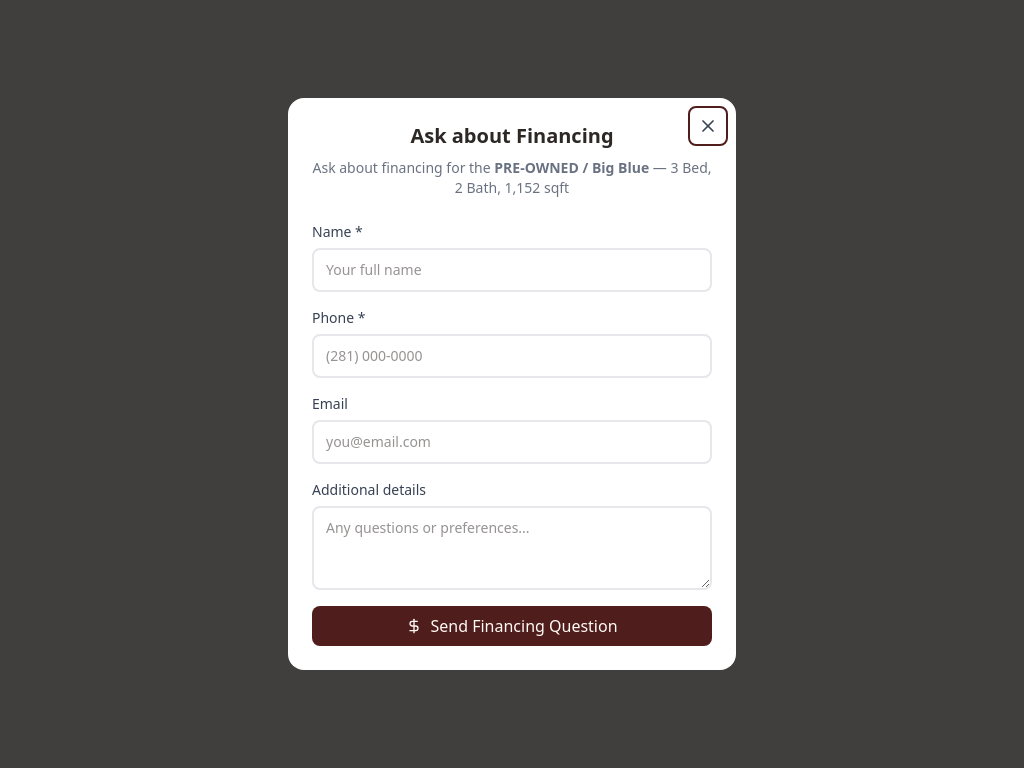
Test: public pages omit unverified claims › keeps financing inquiry wording throughout the lead modal
Expected: the heading "Ask about Financing" is shown, [410,122,614,149]
Expected: the button "Send Financing Question" is shown, [312,606,712,646]
Step 1. Type "Jane Doe" into the field labelled "Name *" → (512, 270), box [312,248,712,292]
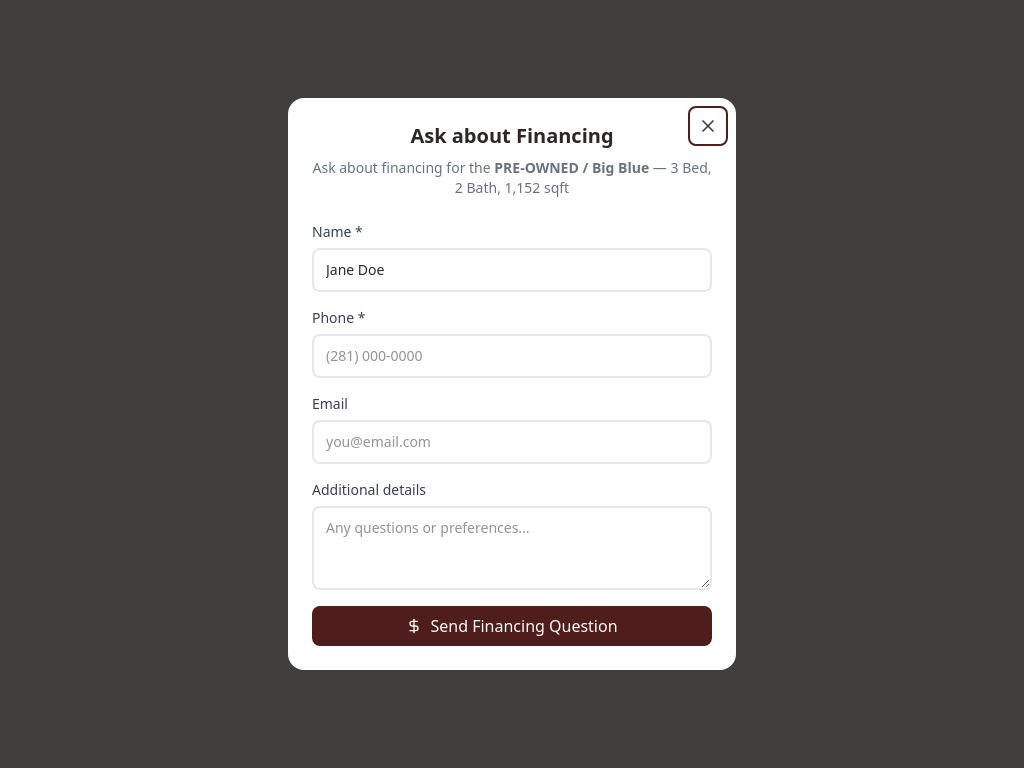
Step 2. Type "2815550100" into the field labelled "Phone *" → (512, 356), box [312,334,712,378]
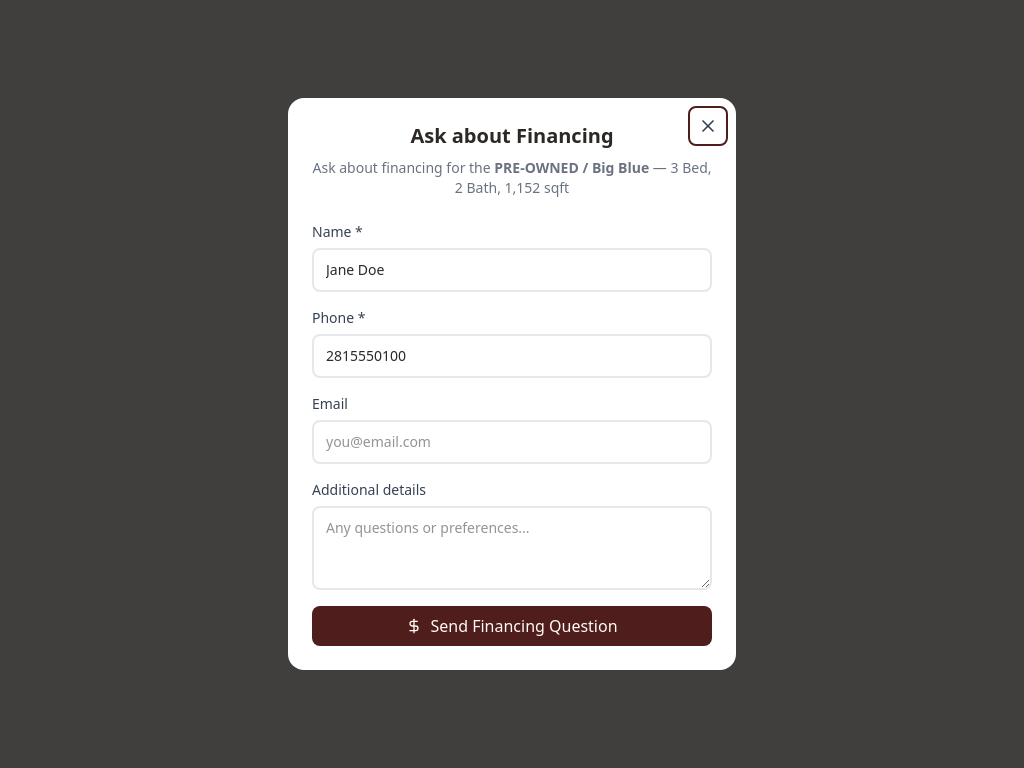
Step 3. Click the button "Send Financing Question" → click(512, 626), box [312,606,712,646]
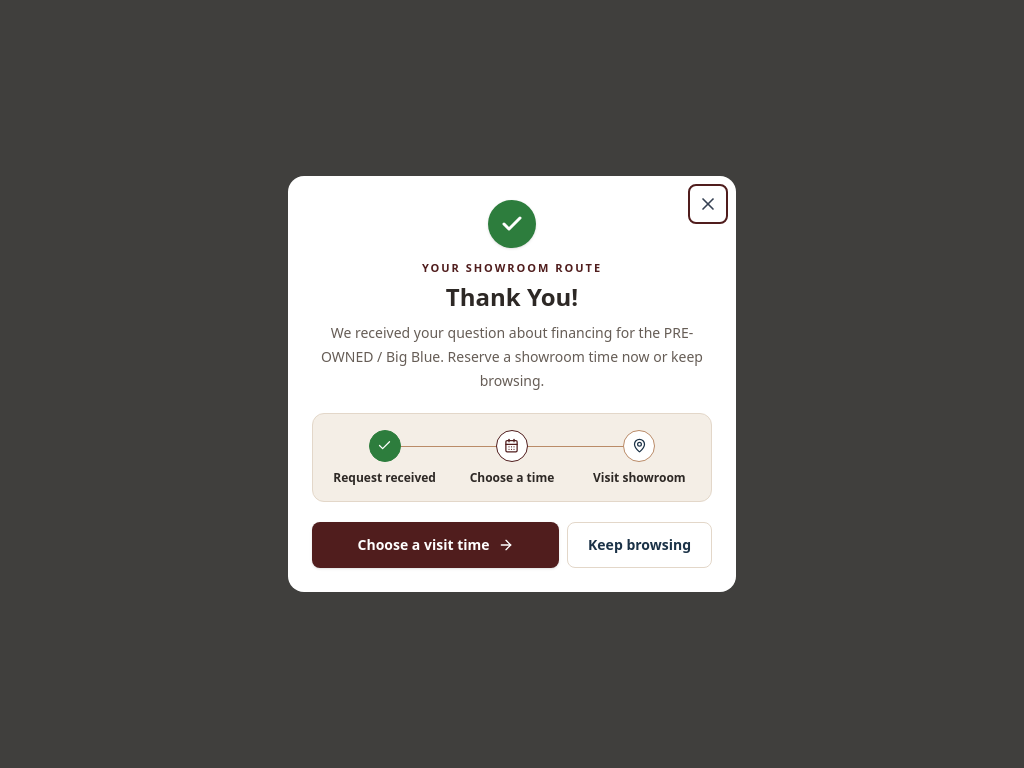
Now the heading "Thank You!" is shown, box [446,280,578,313]
